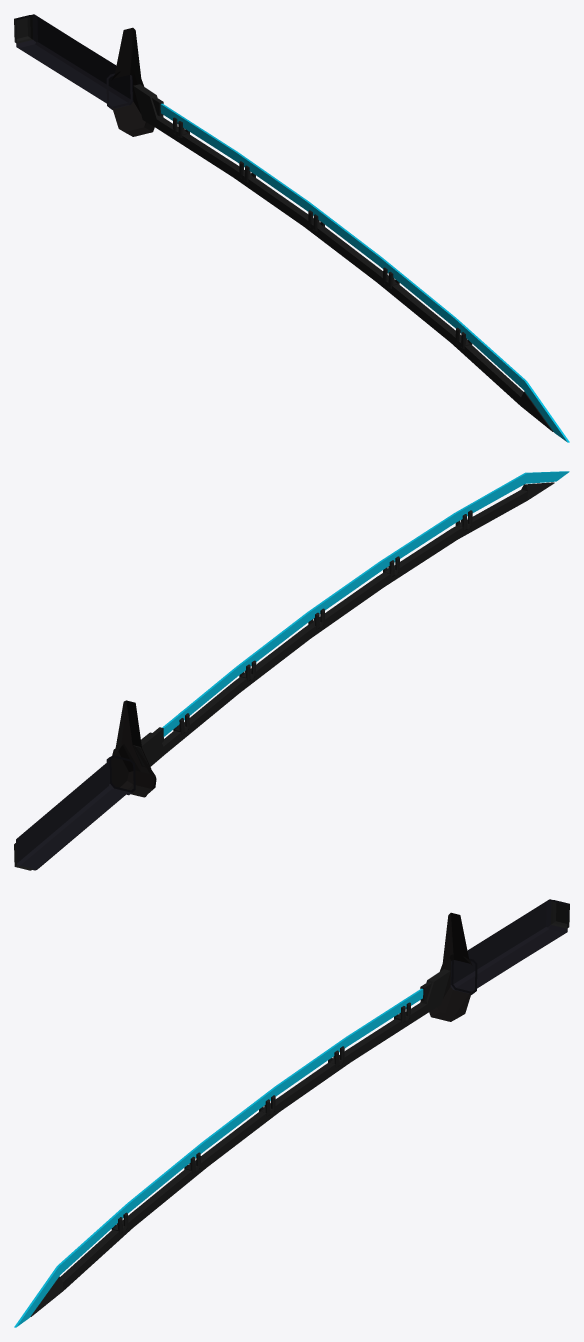
The model's file is photon_katana.glb.
3 views of the same model, one above another, from view 1: azimuth 30°, elevation 25°; view 2: azimuth 150°, elevation 25°; view 3: azimuth 330°, elevation 25° (orthographic).
Visible parts, largest first — view 1: Cube.002; view 2: Cube.002; view 3: Cube.002.
Boxes of the visible parts, box(x1,y1,x2,y2) form: Cube.002: box(14, 14, 569, 442); Cube.002: box(14, 471, 569, 870); Cube.002: box(14, 899, 569, 1327).
Bounding box in the file's own units: 0.0344 × 0.1123 × 1.15.
